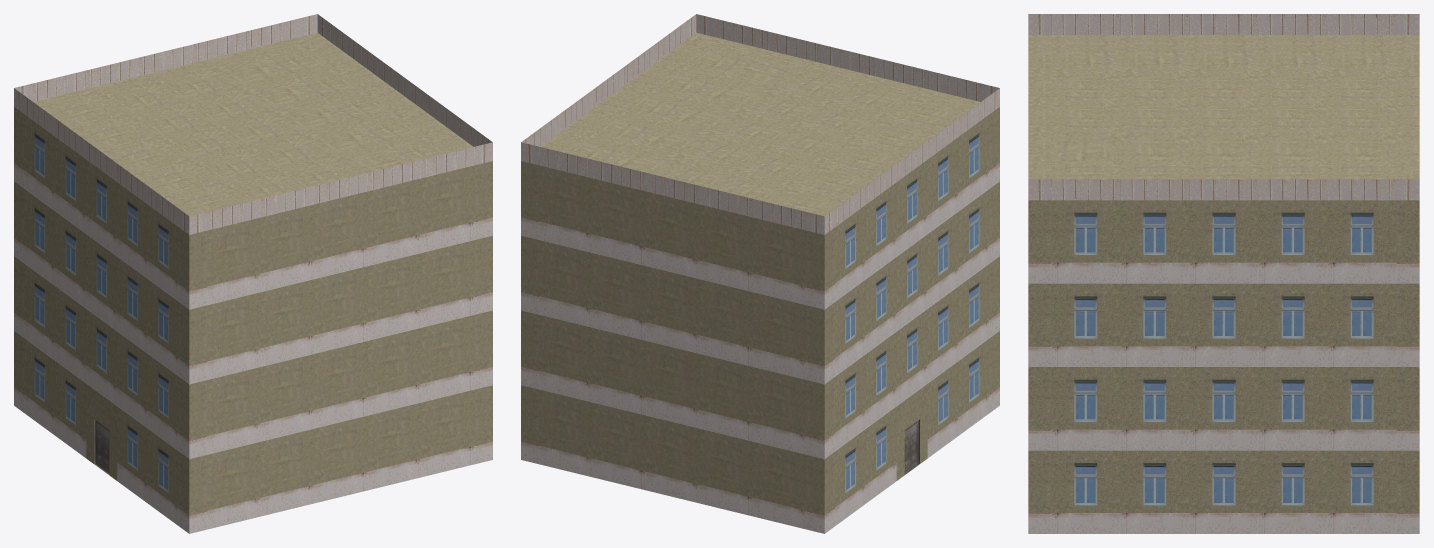
The model's file is flat_square_concrete.glb.
The picture shows the model from 3 angles, left to right: view 1: azimuth 30°, elevation 25°; view 2: azimuth 150°, elevation 25°; view 3: azimuth 270°, elevation 25°; orthographic projection. The views are drawn at different scales.
Parts seen in each view (by area): view 1: flat_square_concrete; view 2: flat_square_concrete; view 3: flat_square_concrete.
Boxes of the visible parts, x1,y1,x2,y2 form: flat_square_concrete: (14,14,492,533); flat_square_concrete: (521,14,999,533); flat_square_concrete: (1028,14,1419,533).
Size of the model in its own units: 17 by 17 by 17.
1 material, 1 textured.
